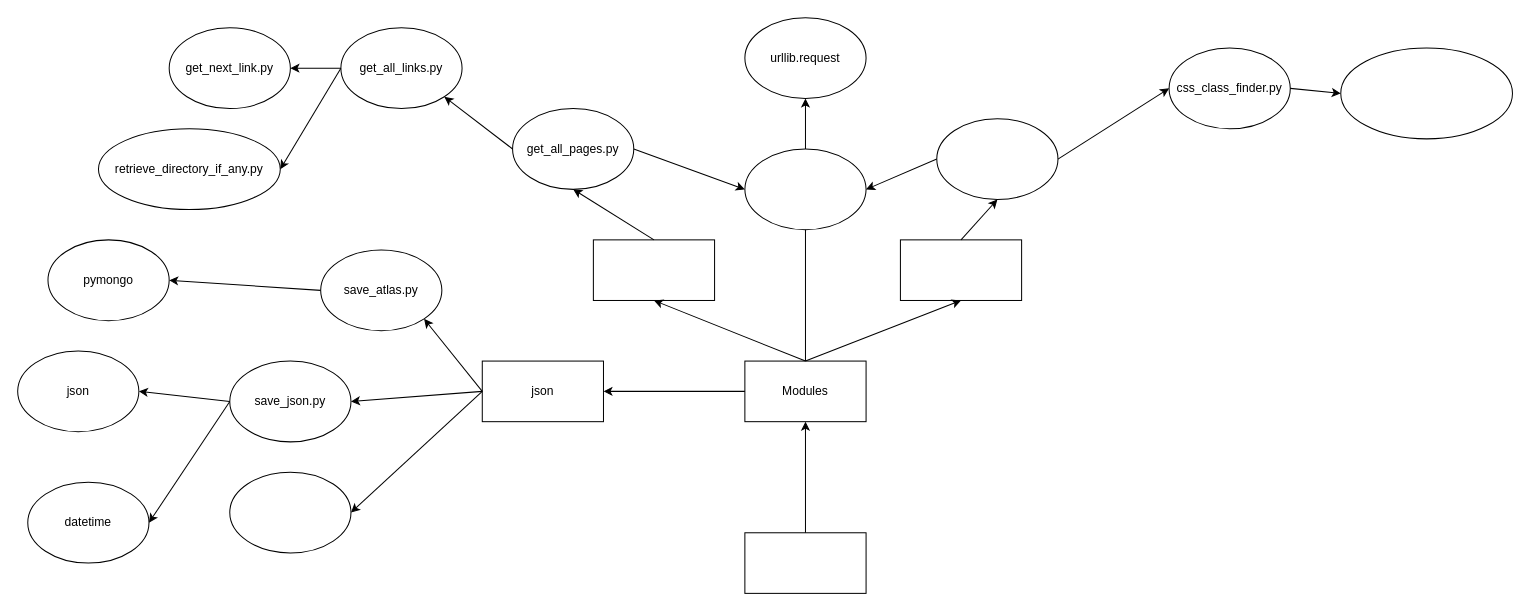
The diagram is 1530 pixels wide and 611 high, and some of its shapes have lost their labels. Here are the shapes that lost their labels. From the top down, the centre of each, then its label:
At point 1426,93: "css_class_get_content.py".
At point 997,158: "get_all_content.py".
At point 805,189: "get_html.py".
At point 653,269: "Web_Crawler".
At point 960,269: "Web_Scraper".
At point 290,512: "transform_json.py".
At point 805,562: "main.py".
